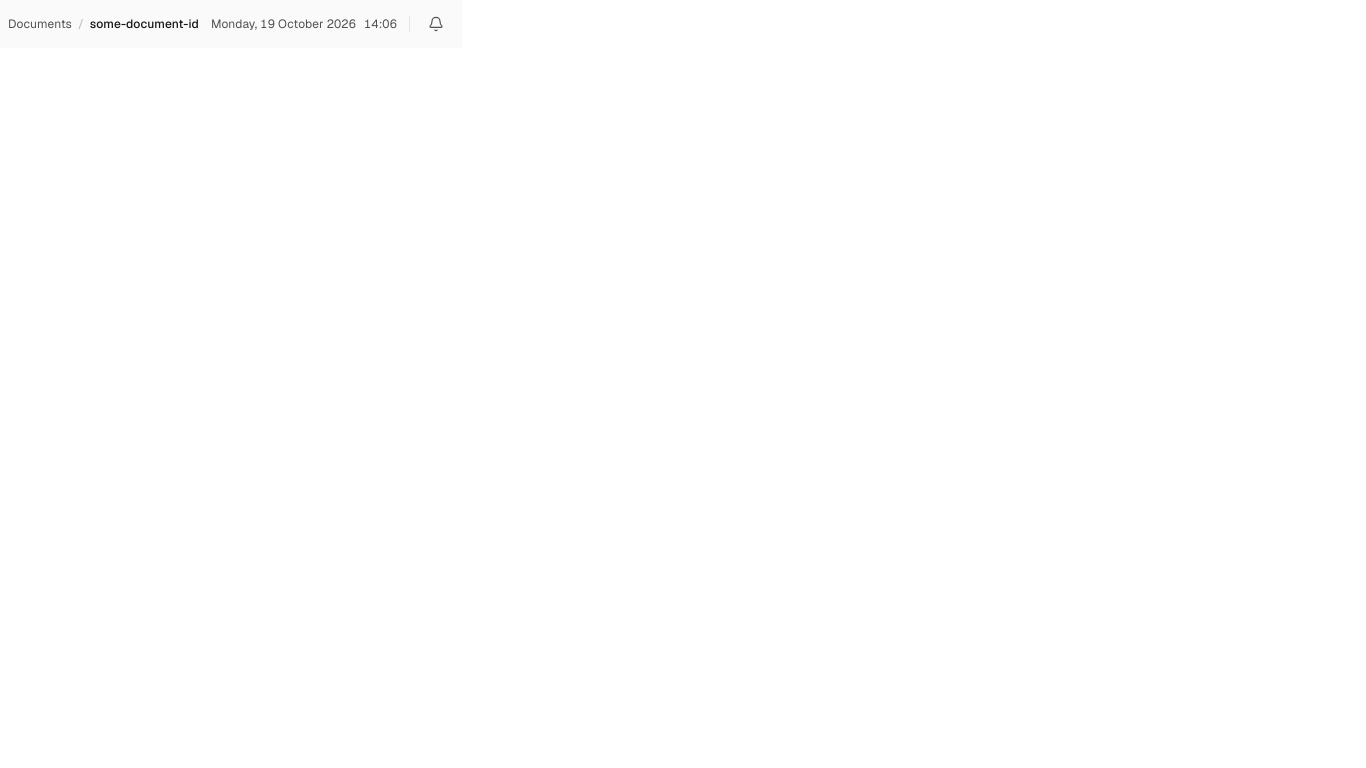
Test: TopPanel › opens the notifications drawer from the bell
The image size is (1366, 768).
Click the button named "notifications" at (436, 24), box [422,10,450,38]
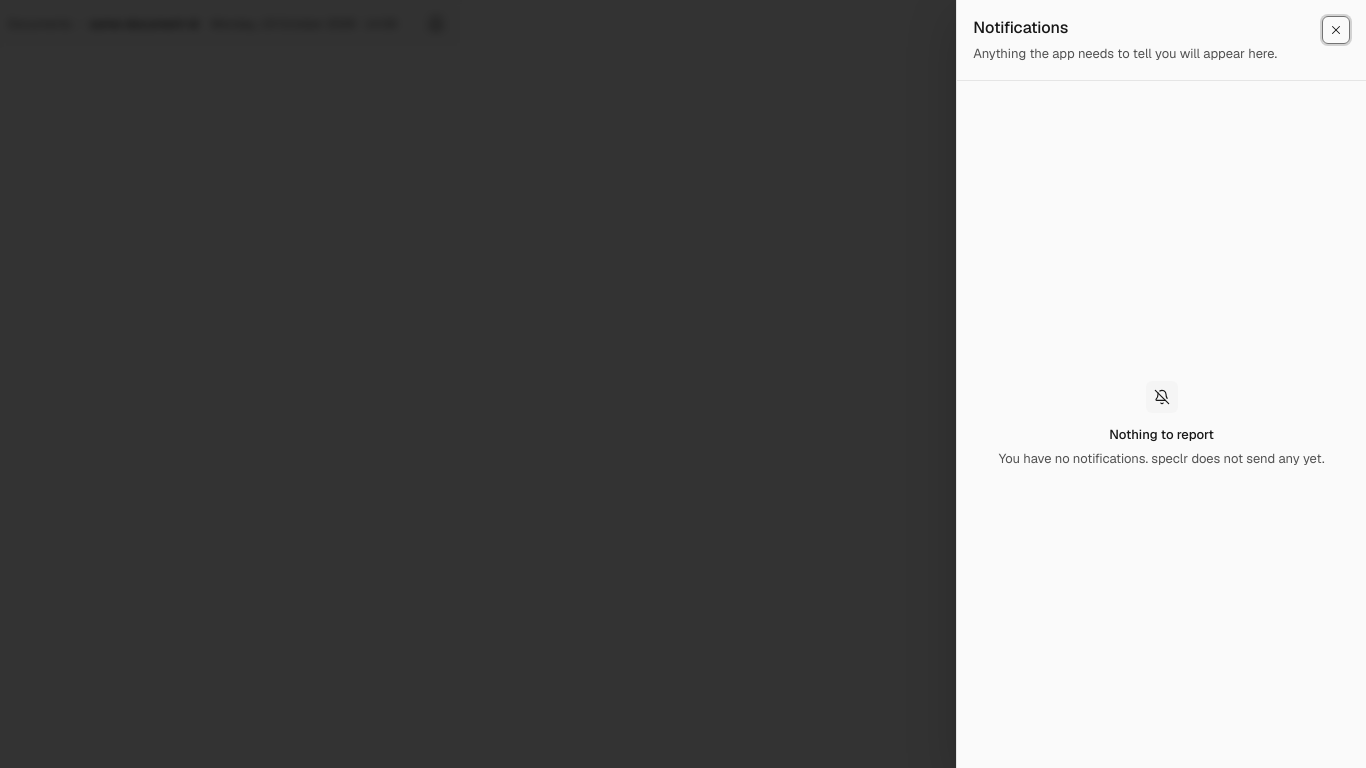
Check: the text "Nothing to report" is shown, box [1109,424,1214,444]
